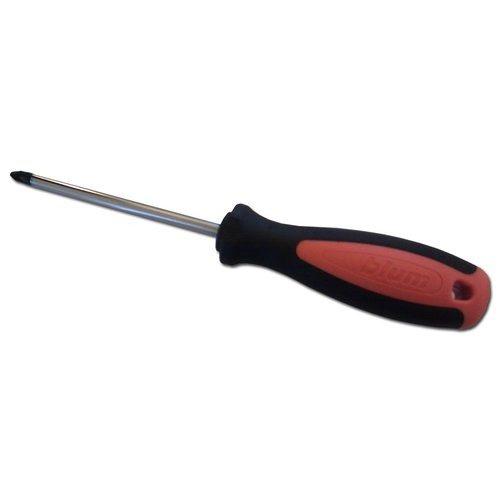screwdriver: (4, 162, 495, 342)
